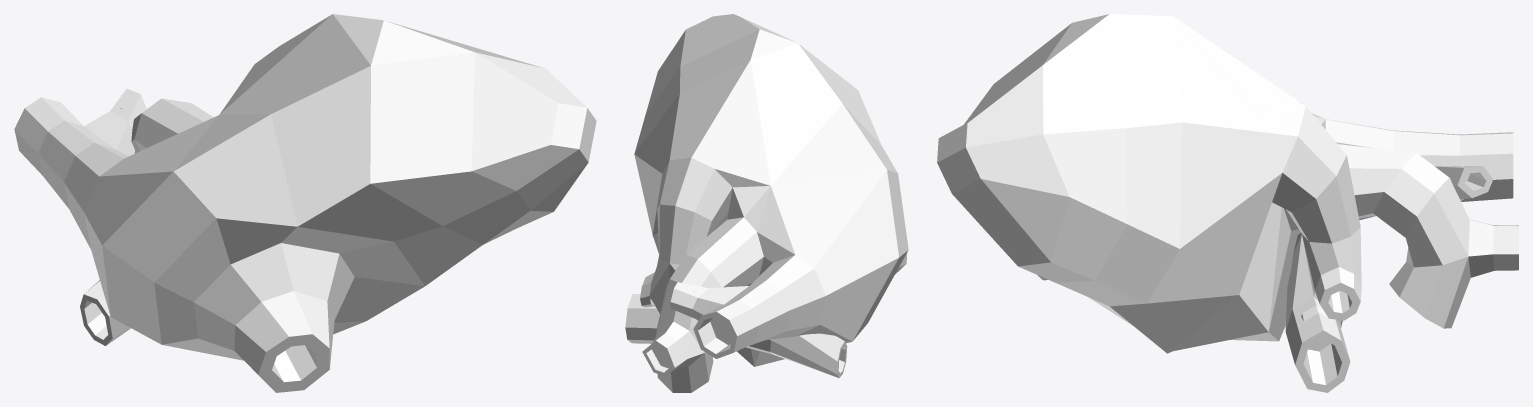
Rendered from Heart2.glb.
The picture shows the model from 3 angles, left to right: view 1: azimuth 30°, elevation 25°; view 2: azimuth 150°, elevation 25°; view 3: azimuth 270°, elevation 25°; orthographic projection. The views are drawn at different scales.
Parts seen in each view (by area): view 1: 1410 Heart; view 2: 1410 Heart; view 3: 1410 Heart.
Boxes of the visible parts, <box> form: 1410 Heart: <box>14,14,596,392</box>; 1410 Heart: <box>625,14,908,392</box>; 1410 Heart: <box>937,14,1518,392</box>.
Bounding box in the file's own units: 4.55 × 4.07 × 5.88.
1 material, 1 textured.
